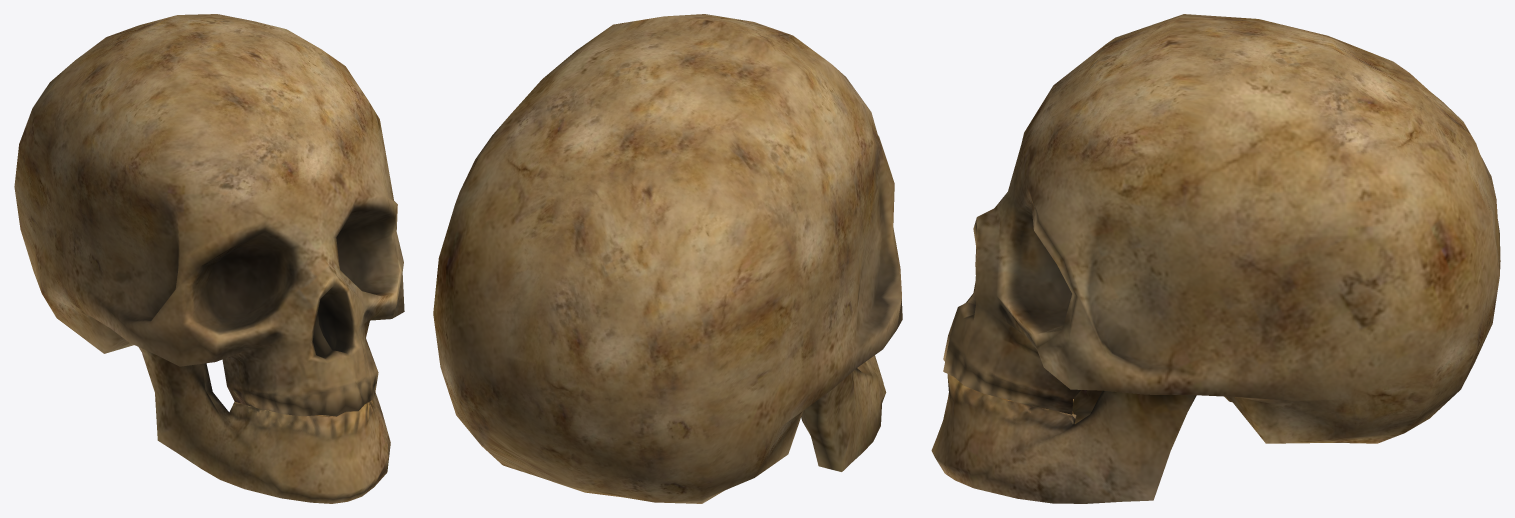
Rendered from skull.fbx.
The picture shows the model from 3 angles, left to right: view 1: azimuth 30°, elevation 25°; view 2: azimuth 150°, elevation 25°; view 3: azimuth 270°, elevation 25°; orthographic projection. The views are drawn at different scales.
Visible parts, largest first — view 1: skulltop, skullbot; view 2: skulltop, skullbot; view 3: skulltop, skullbot.
Boxes of the visible parts, x1,y1,x2,y2 form: skulltop: (14,14,404,416); skullbot: (138,347,390,503); skulltop: (433,14,902,503); skullbot: (801,355,886,471); skulltop: (943,14,1500,443); skullbot: (931,374,1196,503).
Size of the model in its own units: 6.21 by 8.14 by 9.75.
